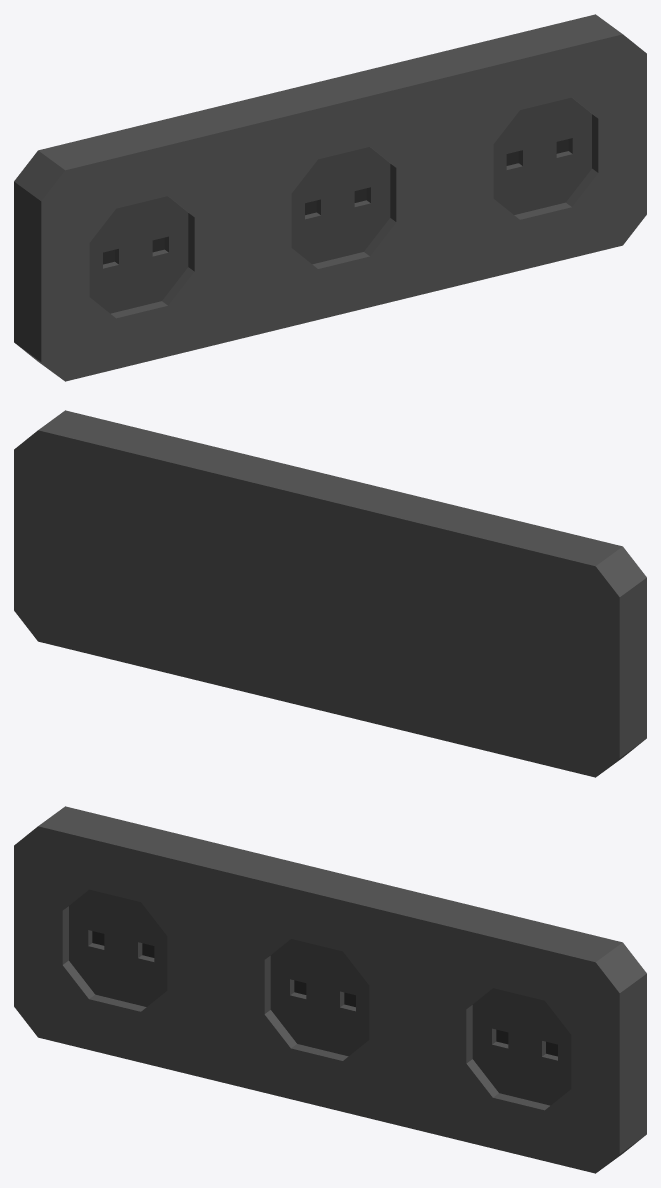
Rendered from Socket6_C2.fbx.
3 views of the same model, one above another, from view 1: azimuth 30°, elevation 25°; view 2: azimuth 150°, elevation 25°; view 3: azimuth 330°, elevation 25° (orthographic).
Visible parts, largest first — view 1: Socket6_C2; view 2: Socket6_C2; view 3: Socket6_C2.
Part boxes in pixels (x1,y1,x2,y2): Socket6_C2: (14,14,646,381); Socket6_C2: (14,410,646,777); Socket6_C2: (14,806,646,1173).
Bounding box in the file's own units: 25.33 × 8.44 × 1.97.
